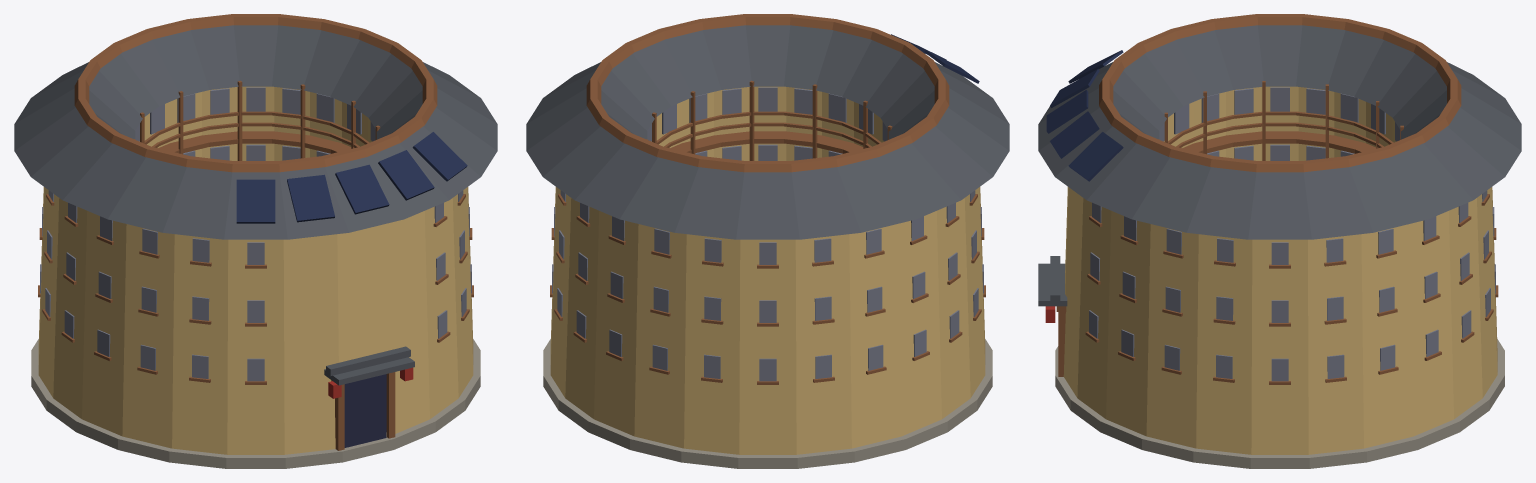
The model's file is house-2x2-4f-tulou-a-solar.glb.
The picture shows the model from 3 angles, left to right: view 1: azimuth 30°, elevation 25°; view 2: azimuth 150°, elevation 25°; view 3: azimuth 270°, elevation 25°; orthographic projection.
Visible parts, largest first — view 1: house-2x2-4f-tulou-a-solar; view 2: house-2x2-4f-tulou-a-solar; view 3: house-2x2-4f-tulou-a-solar.
Boxes of the visible parts, <box> form: house-2x2-4f-tulou-a-solar: <box>14,14,497,468</box>; house-2x2-4f-tulou-a-solar: <box>526,14,1009,468</box>; house-2x2-4f-tulou-a-solar: <box>1038,14,1521,468</box>.
Size of the model in its own units: 1.98 by 1.29 by 1.98.
1 material, 1 textured.
